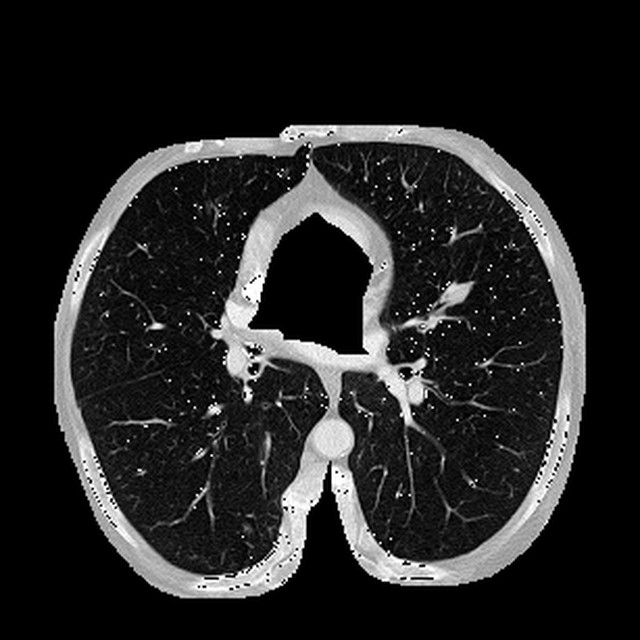PN: (446, 281, 467, 302)
